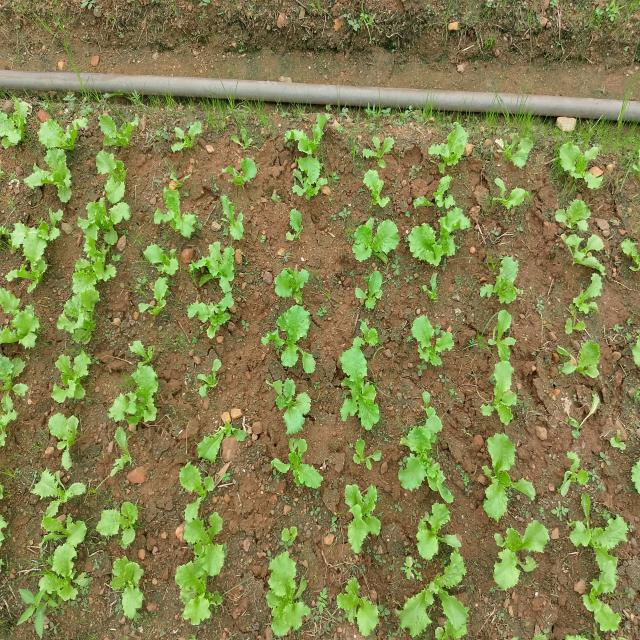Lettuce: (398, 553, 483, 637), (391, 396, 457, 500), (330, 333, 396, 436), (475, 435, 546, 518), (252, 364, 327, 432), (489, 514, 553, 593), (264, 547, 318, 636), (573, 546, 627, 634), (259, 302, 323, 374), (570, 488, 629, 562), (8, 208, 63, 287), (472, 355, 530, 428), (408, 207, 471, 272), (340, 478, 391, 556), (173, 556, 229, 624), (408, 494, 466, 559), (179, 507, 239, 567), (108, 362, 166, 422), (267, 432, 323, 491), (334, 575, 387, 637), (471, 309, 528, 366), (474, 250, 528, 310), (403, 313, 458, 370), (34, 539, 91, 594), (79, 193, 134, 249), (0, 288, 45, 354), (108, 553, 153, 619), (31, 466, 90, 516), (0, 351, 31, 445), (194, 409, 246, 464), (346, 216, 404, 265), (185, 291, 234, 348), (70, 238, 119, 294), (551, 143, 605, 193), (88, 142, 134, 200), (269, 264, 325, 311), (28, 150, 76, 204), (152, 184, 198, 240), (195, 239, 239, 296), (550, 338, 608, 381), (559, 224, 608, 274), (178, 462, 222, 517), (56, 286, 97, 345), (356, 164, 401, 217), (211, 184, 252, 242), (94, 502, 144, 548), (479, 174, 532, 217), (44, 403, 79, 466), (426, 126, 474, 171), (54, 348, 92, 404), (92, 109, 135, 156), (278, 116, 336, 150), (105, 421, 139, 478), (164, 112, 207, 156), (291, 157, 333, 202), (568, 268, 606, 317), (136, 278, 180, 318), (38, 119, 83, 158), (213, 154, 260, 190), (494, 131, 538, 169), (359, 132, 402, 170), (38, 511, 87, 544), (556, 449, 591, 495), (141, 238, 184, 274), (0, 98, 32, 146), (193, 354, 223, 402), (275, 212, 311, 251), (352, 270, 387, 310), (551, 200, 593, 233), (130, 339, 164, 366), (620, 232, 640, 273)
